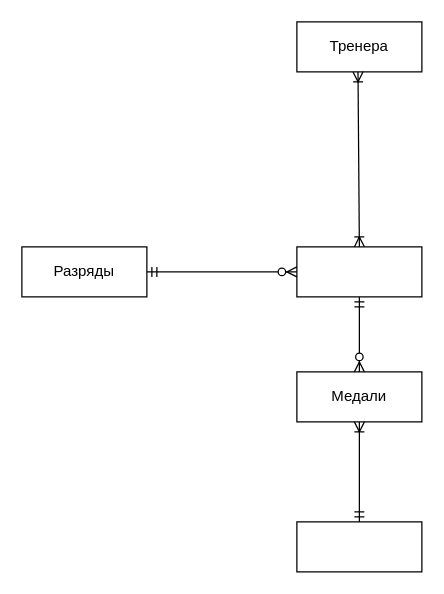
Image size: 444x594. Some labels were removed from this diagram. The centre of each missing label's shape, as x and y in pixels:
Сорвенования: (x=359, y=546)
Фигуристы: (x=359, y=271)
